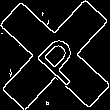P_NW: (24, 25, 86, 85)
